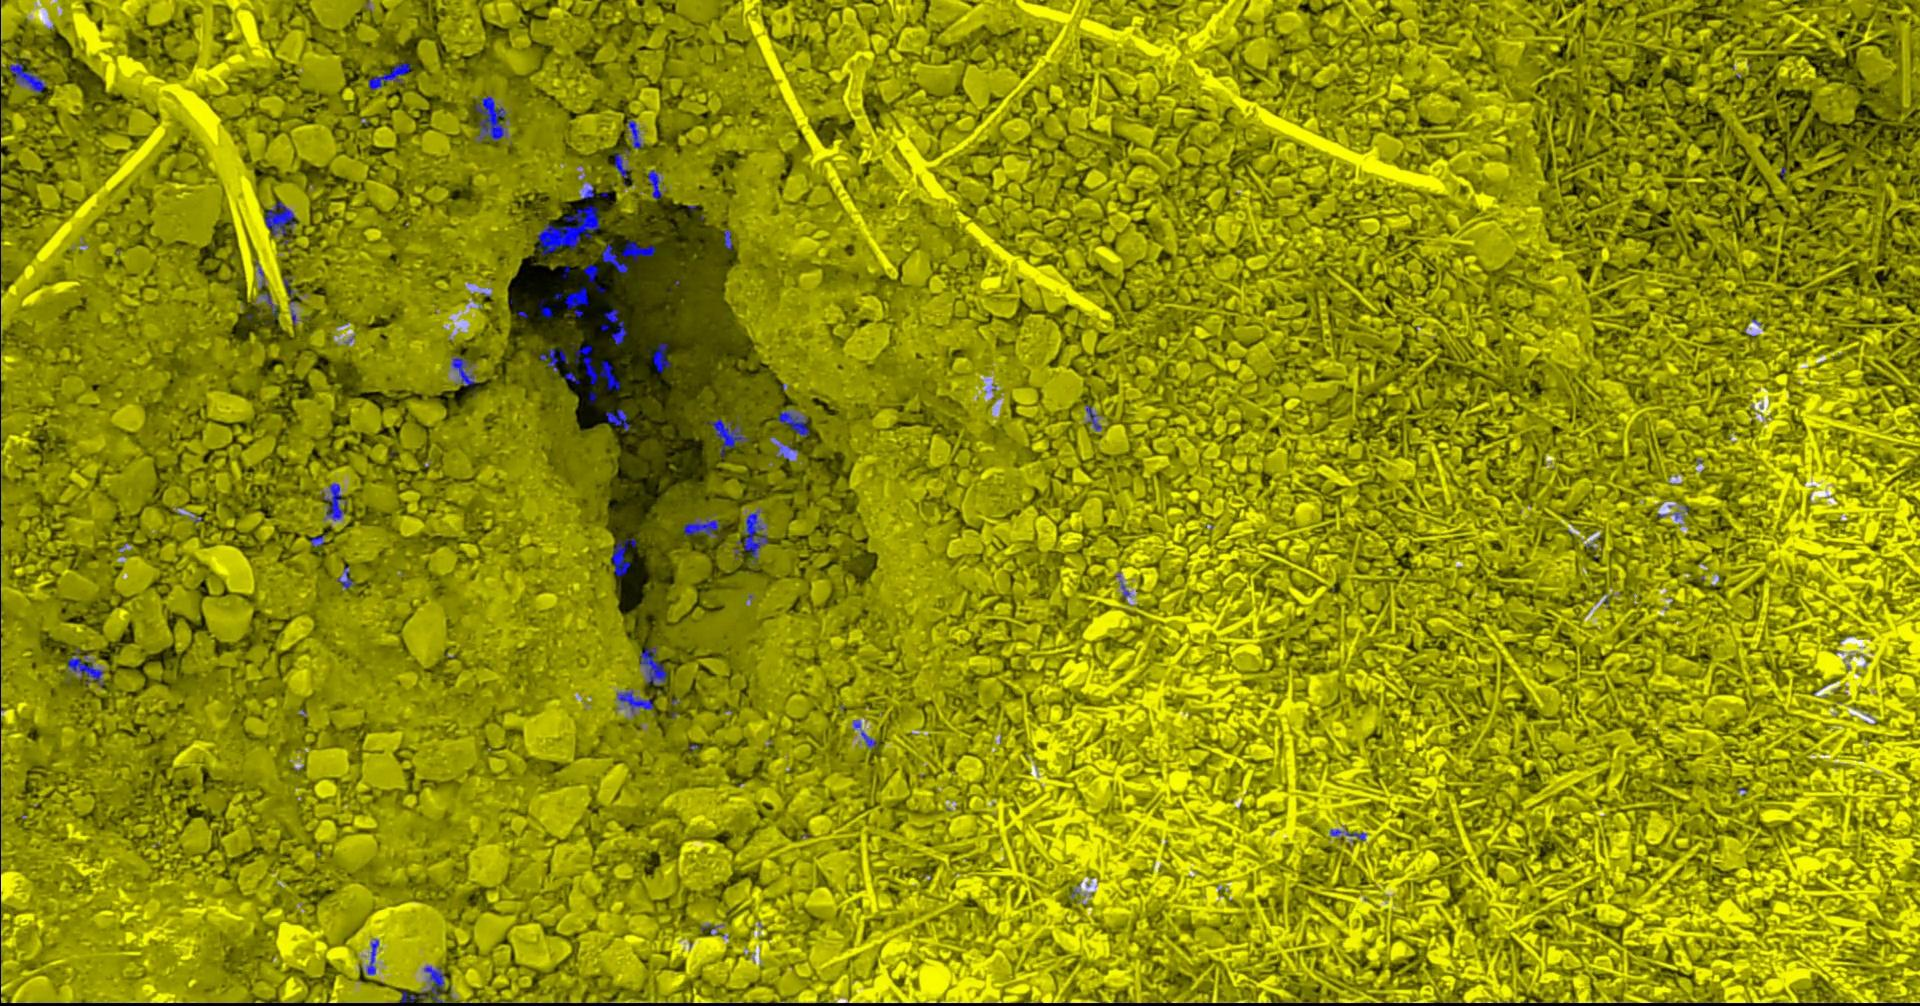ant: (574, 344, 620, 390), (735, 509, 768, 569), (397, 965, 446, 1002), (705, 417, 748, 455), (474, 97, 505, 141), (66, 647, 103, 685), (254, 260, 277, 318), (8, 57, 44, 91), (368, 62, 410, 89), (554, 286, 588, 318), (264, 199, 295, 235), (639, 645, 665, 685), (610, 537, 636, 575), (451, 356, 476, 395), (599, 307, 626, 344), (616, 690, 653, 713), (601, 243, 627, 273), (777, 410, 809, 436), (323, 483, 344, 520), (682, 520, 723, 537), (538, 347, 568, 371), (621, 240, 655, 260), (651, 342, 670, 372), (604, 408, 629, 431), (613, 152, 630, 185), (626, 119, 643, 149), (366, 939, 378, 974), (1084, 404, 1101, 431), (648, 169, 662, 198), (775, 442, 797, 460), (337, 567, 353, 588), (282, 277, 295, 304), (860, 729, 877, 748), (538, 298, 555, 318), (583, 264, 598, 281), (309, 533, 324, 546), (723, 229, 731, 249)
